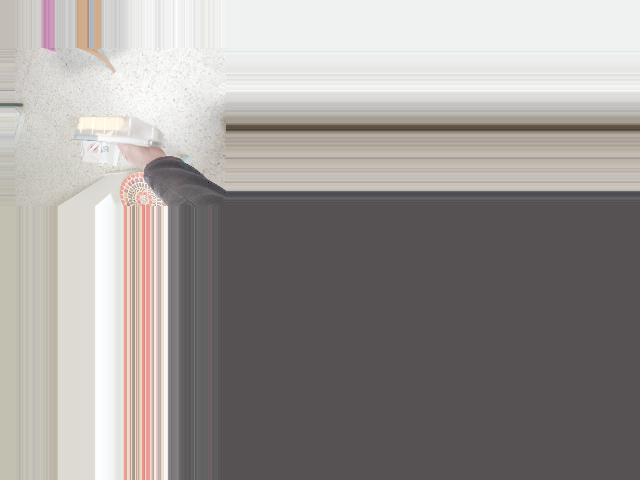cheese: (72, 105, 158, 164)
